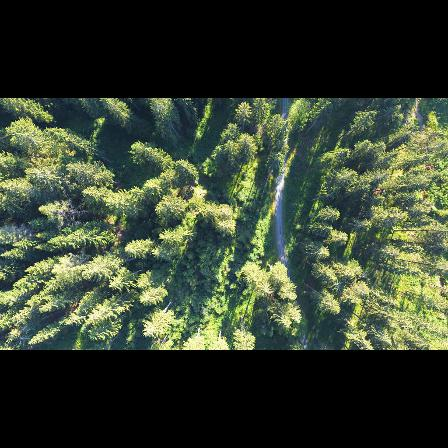Sick: (327, 277, 347, 294)
